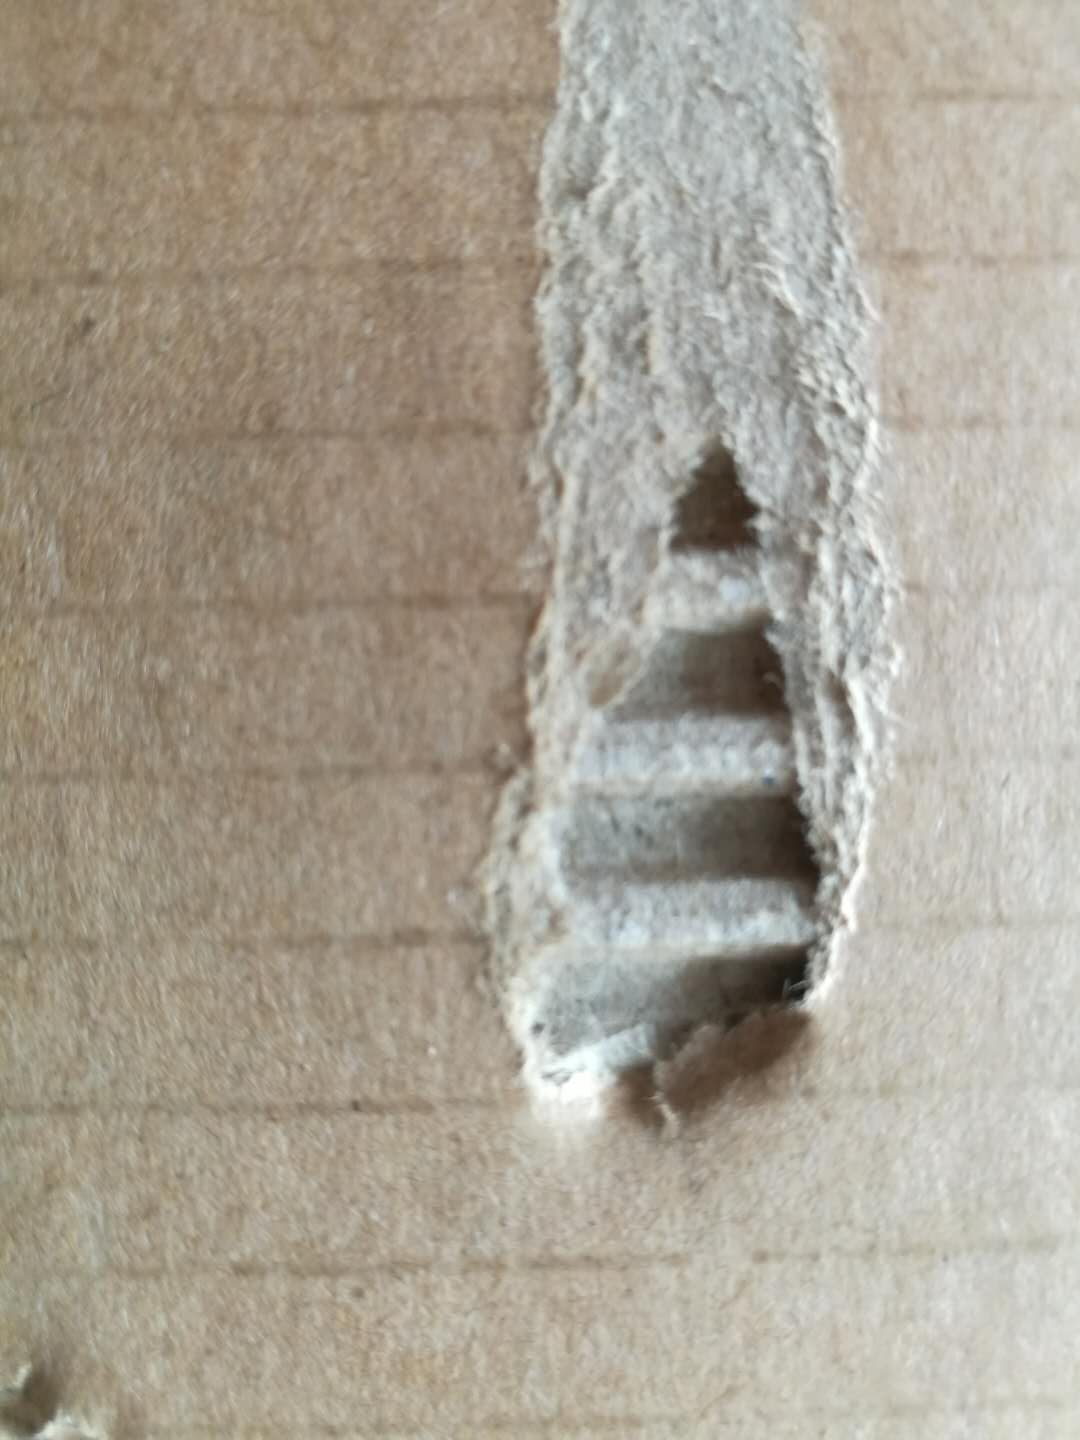defect: (423, 1, 989, 1195), (1, 1296, 157, 1440)
